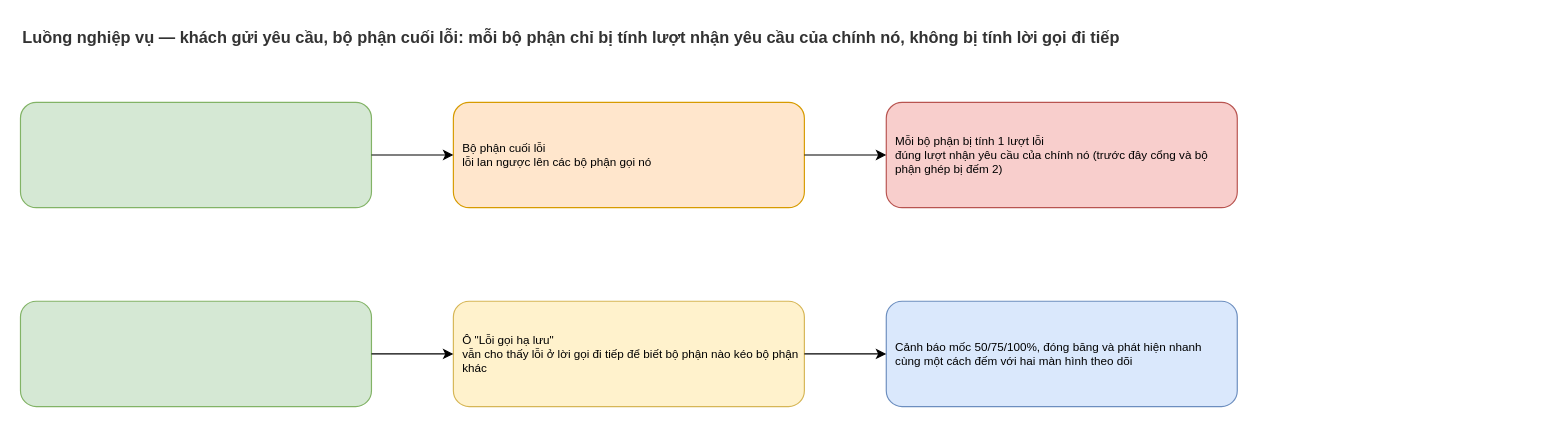
The diagram is 1562 pixels wide and 427 high, and some of its shapes have lost their labels. Here are the shapes that lost their labels. From the top down, the centre of each, then its label:
point (195, 154): Khách gửi yêu cầu qua cổng vào → bộ phận ghép dữ liệu → bộ phận sản phẩm
point (195, 353): Lời gọi đi tiếp và gửi thông điệp không còn tính vào ngân sách
